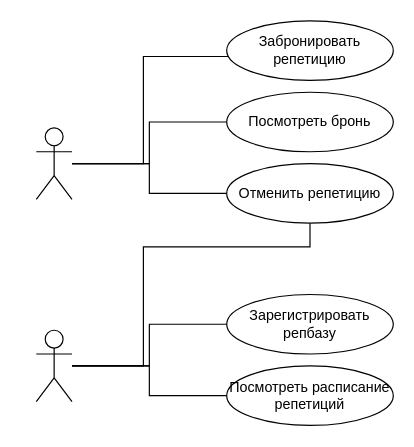
Some shapes in this 414 by 447 pixel diagram are drawn without their labels. The centre of each missing label's shape, as x and y in pixels:
Владелец: pixel 53 365
Музыкант: pixel 53 163
